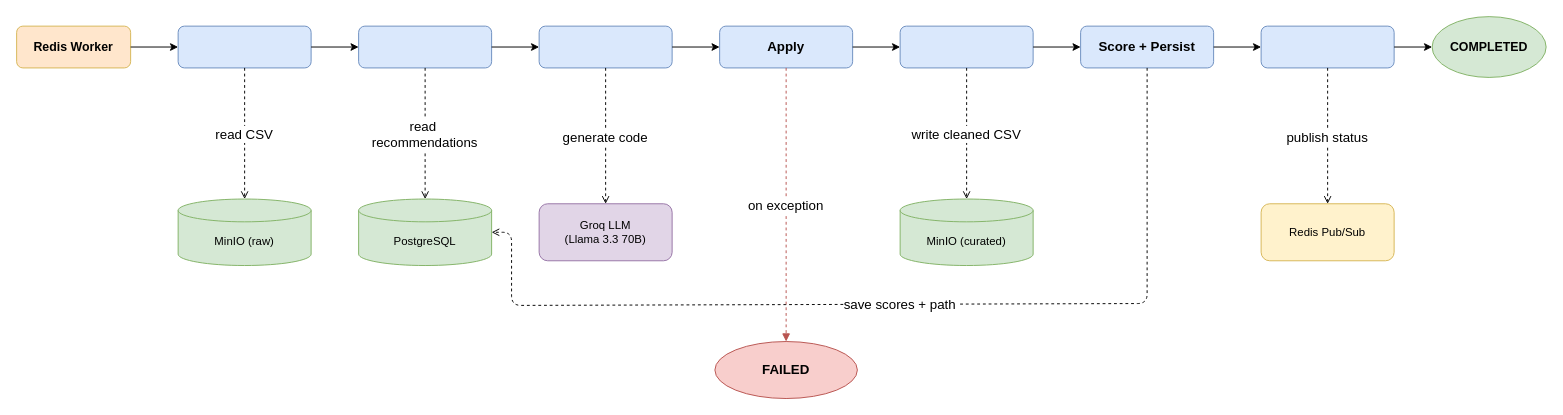
Image size: 1563x415. Some labels were removed from this diagram. Here are the shapes that lost their labels. From the top down, the centre of each, then its label:
At point 244,46: "Ingest".
At point 425,46: "Load Recs".
At point 605,46: "LLM Codes".
At point 966,46: "Upload".
At point 1327,46: "Notify".
